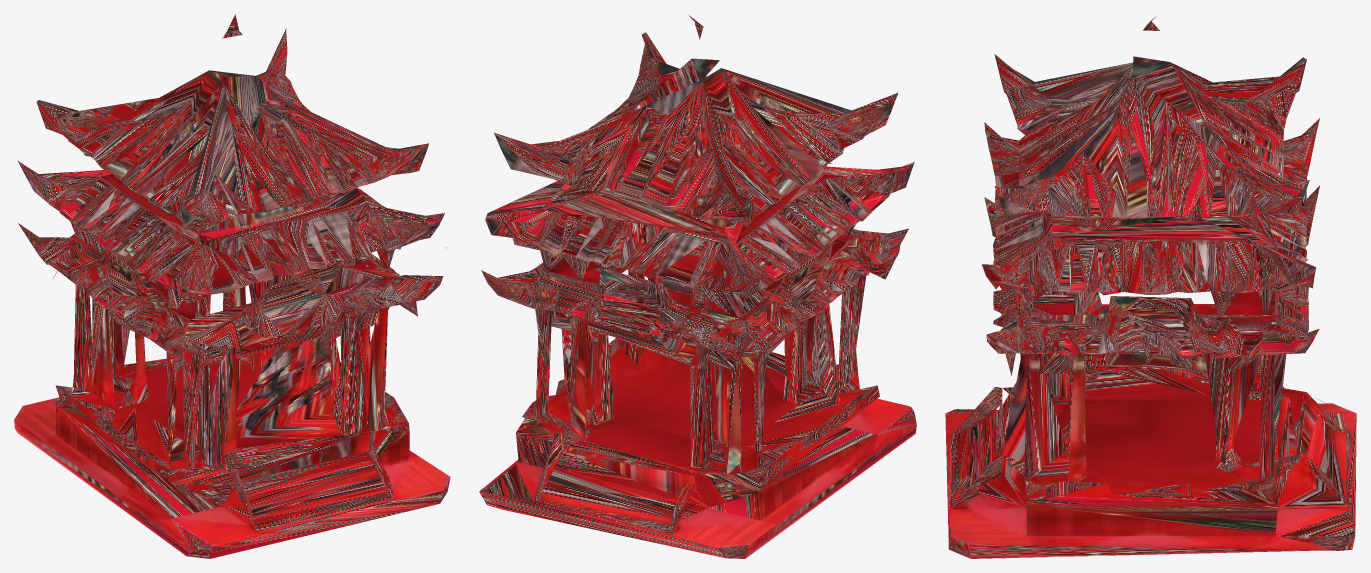
File: bq_library_pagoda.far.glb
3 renders of one model, left to right at view 1: azimuth 30°, elevation 25°; view 2: azimuth 150°, elevation 25°; view 3: azimuth 270°, elevation 25°, orthographic. The views are drawn at different scales.
Size of the model in its own units: 1.2 by 1.87 by 1.46.
Materials: 1 (1 with a texture image).
